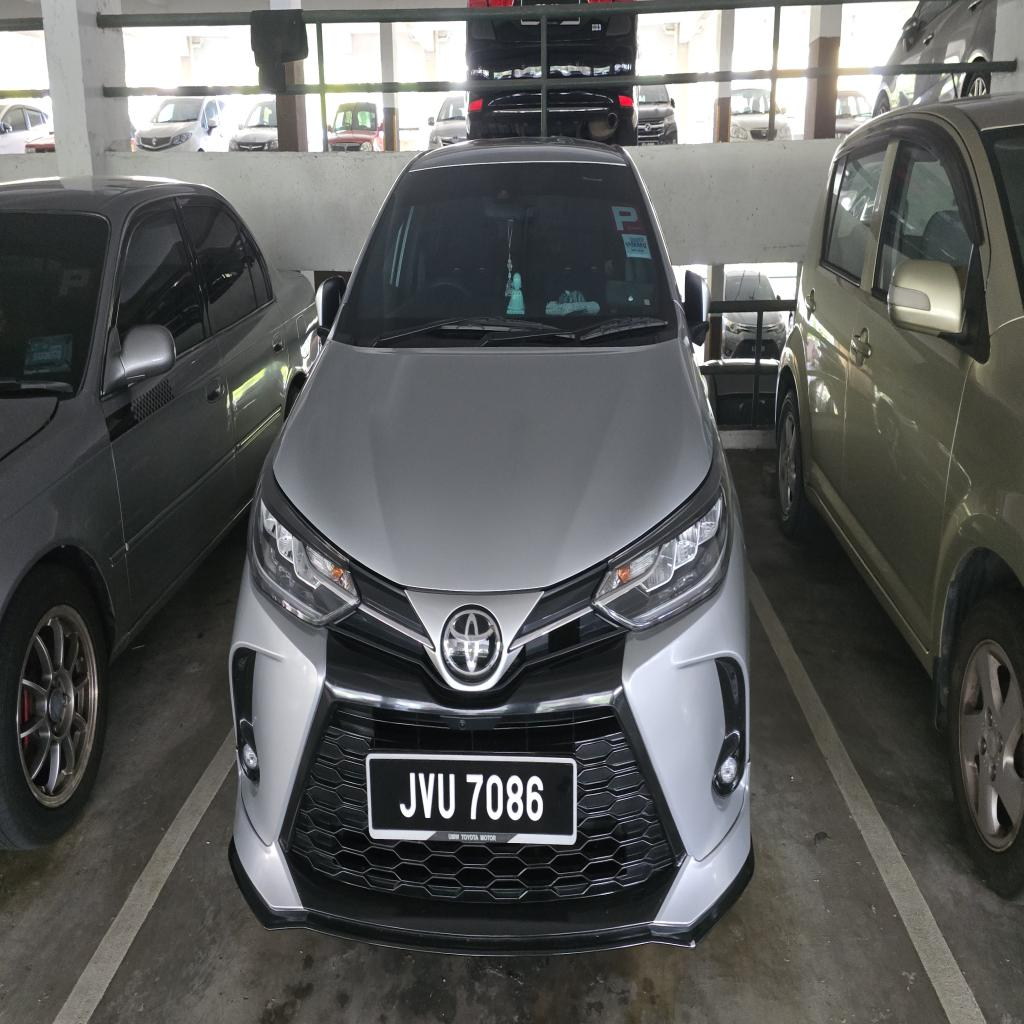car: (230, 140, 752, 952)
car plate: (366, 753, 576, 845)
